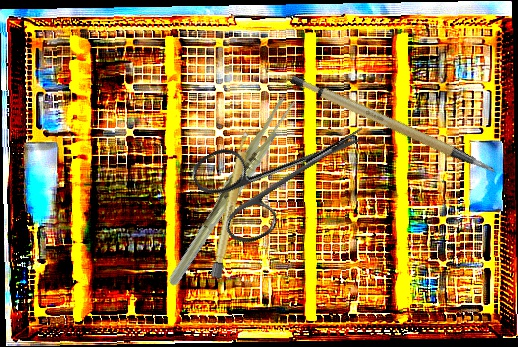Iris Scissors: (187, 87, 386, 253)
Scalpel Handle: (287, 48, 498, 206), (210, 129, 253, 280)
Tissue Forceps: (136, 92, 325, 289)
